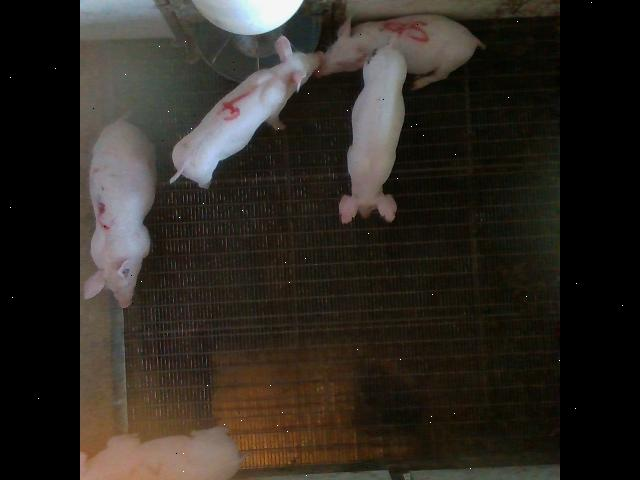pig-2: (82, 426, 242, 480)
pig-3: (84, 118, 155, 306)
pig-4: (171, 40, 320, 186)
pig-5: (319, 14, 484, 89)
